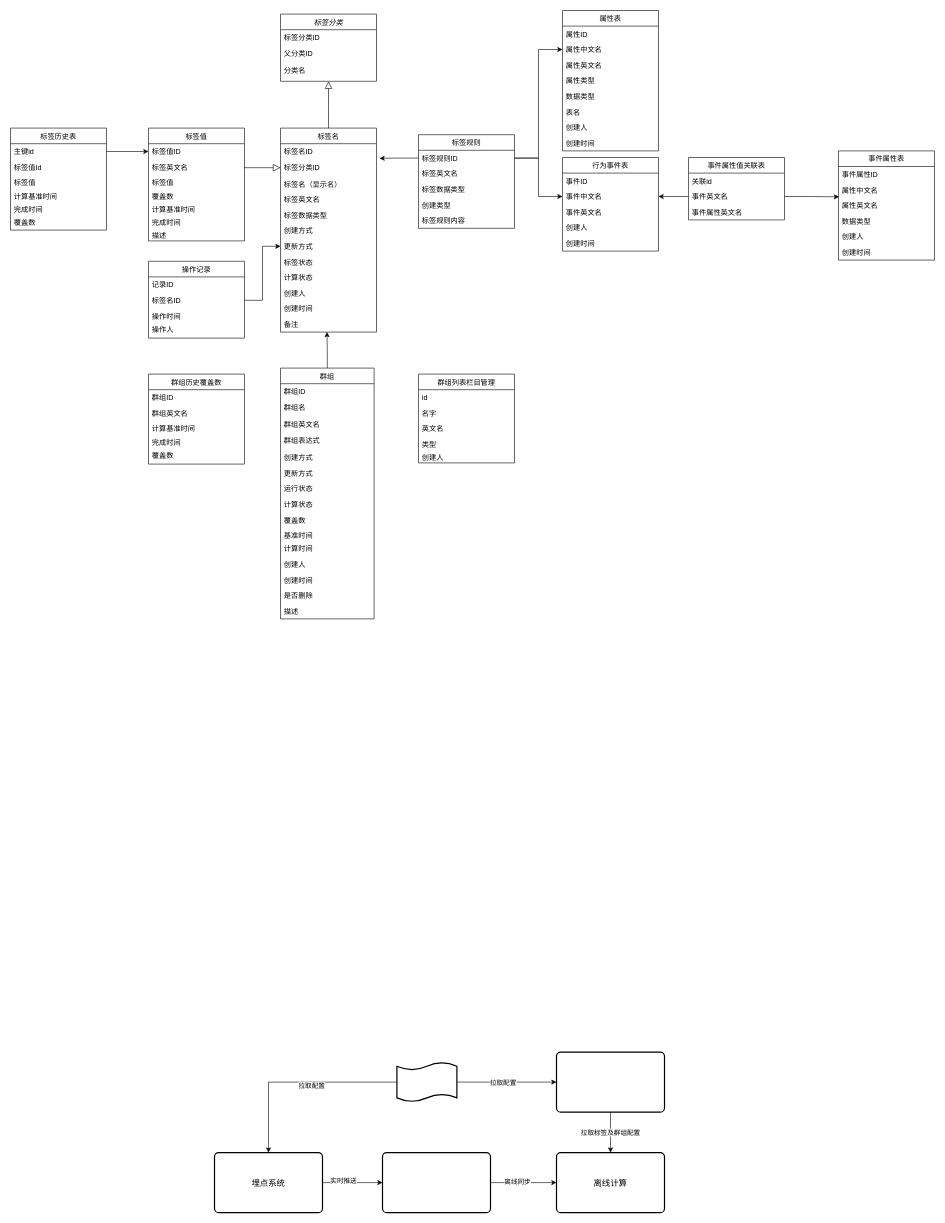
The diagram is 945 pixels wide and 1223 high, and some of its shapes have lost their labels. The shapes that lost their labels are listed below. From the top down, each one's centre as x and y in pixels, then its label:
At (426,1082): "事件及属性配置".
At (610,1081): "标签系统".
At (436,1182): "LogHub".
